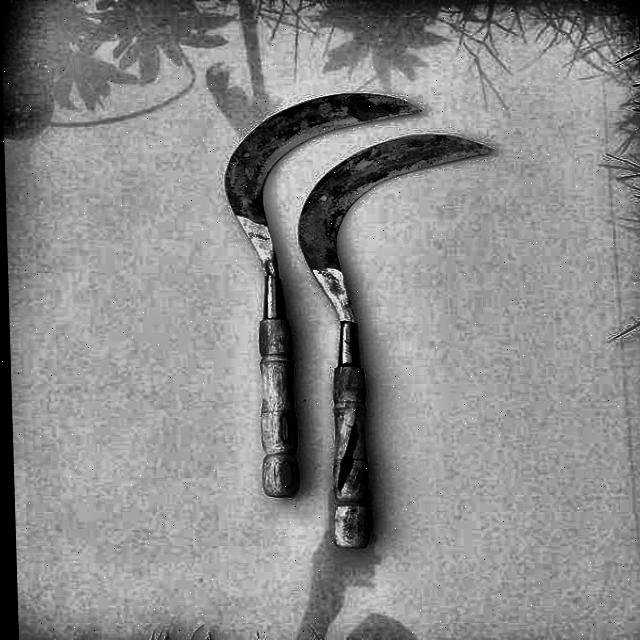celurit: (286, 125, 501, 549)
